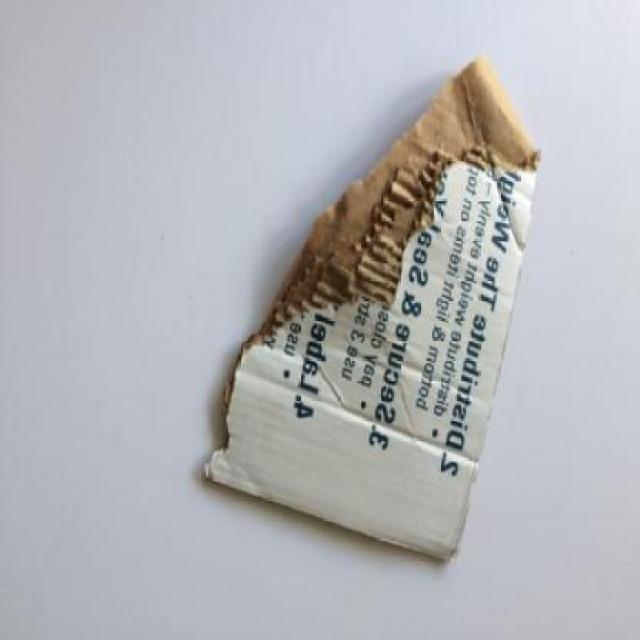box: (205, 52, 543, 563)
